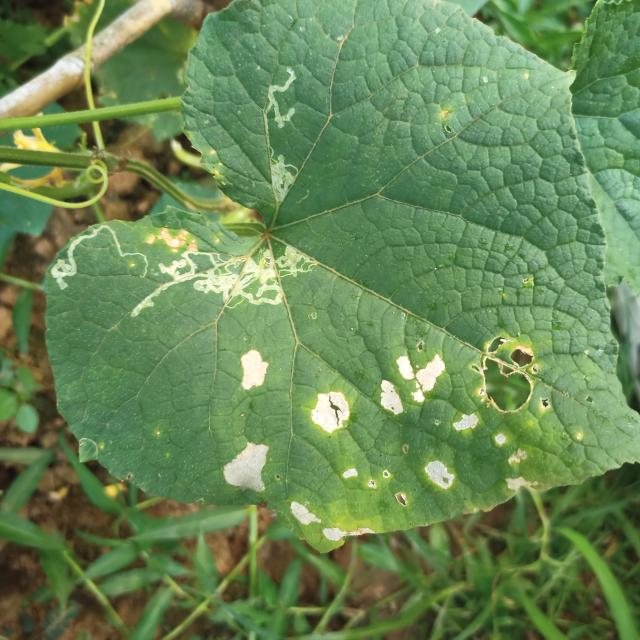disease_cucumber: (287, 326, 574, 547), (217, 342, 280, 499)
